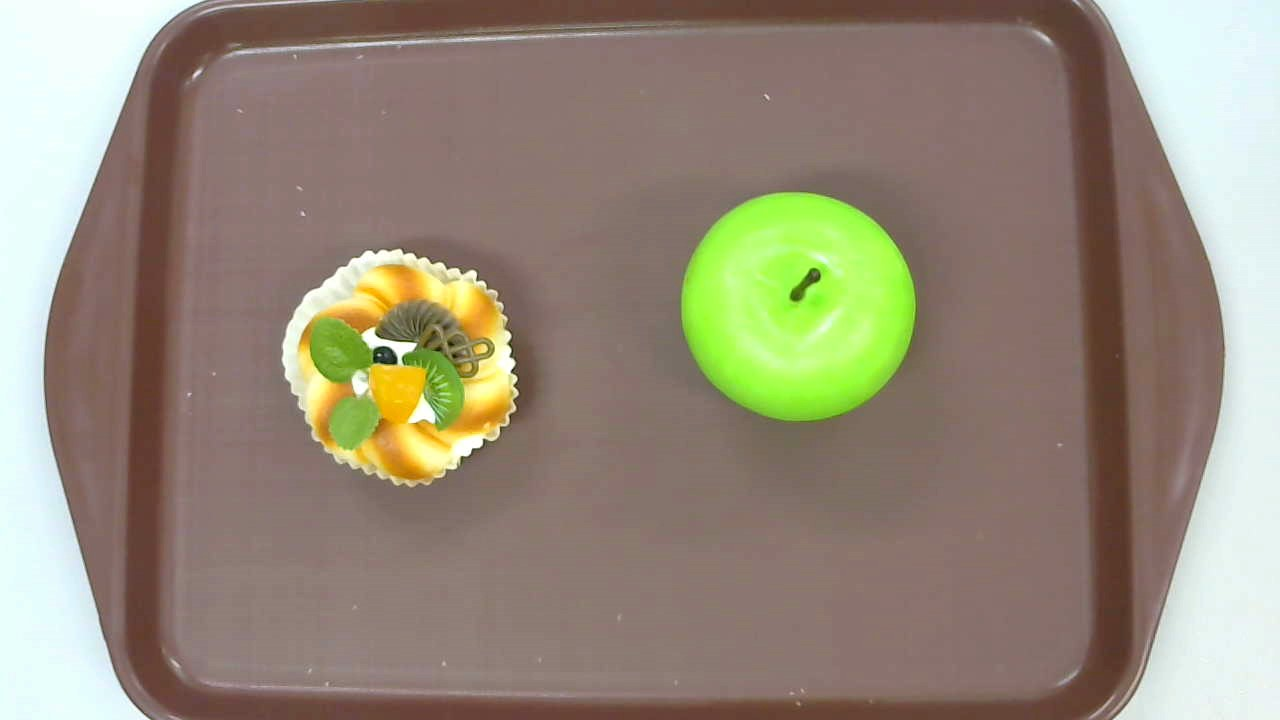fruit tart: (281, 249, 521, 491)
green apple: (680, 192, 916, 423)
